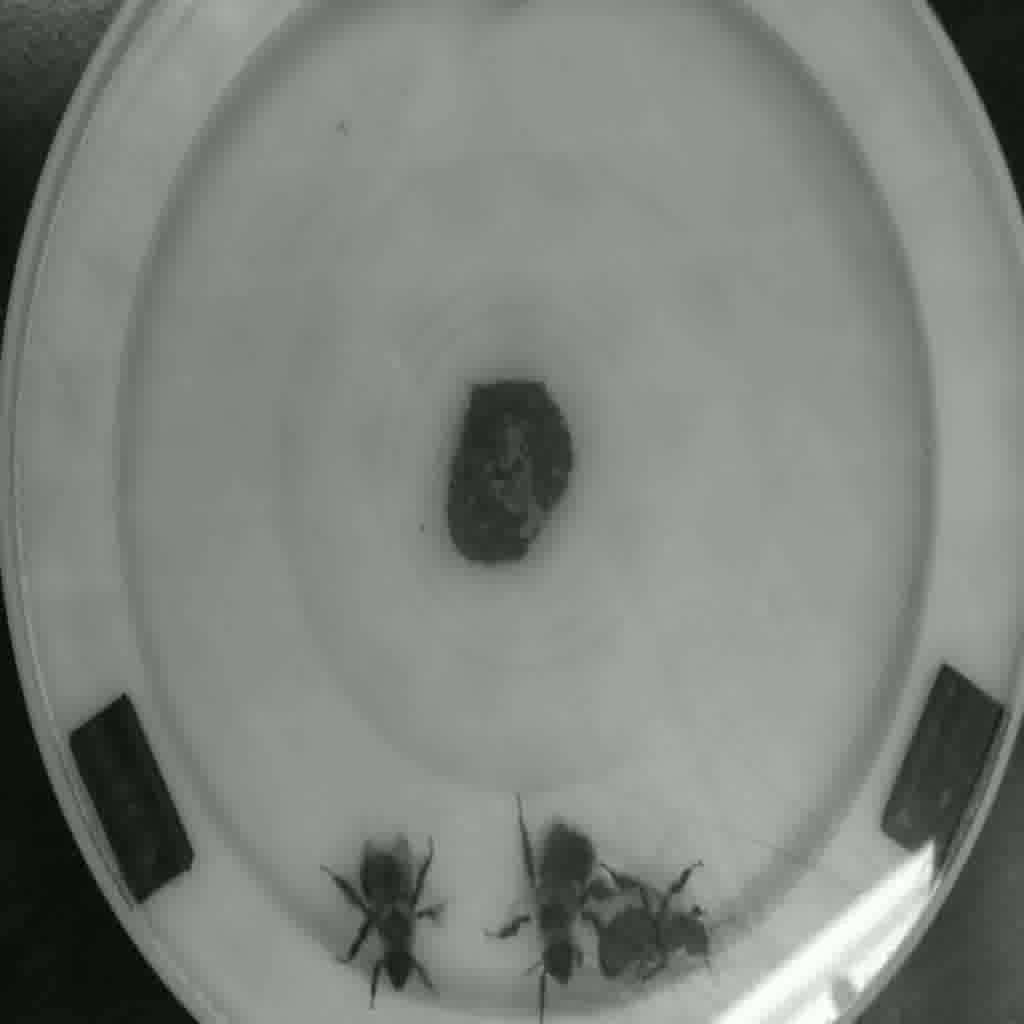bee: (350, 846, 453, 996), (598, 875, 714, 985), (524, 826, 610, 966)
